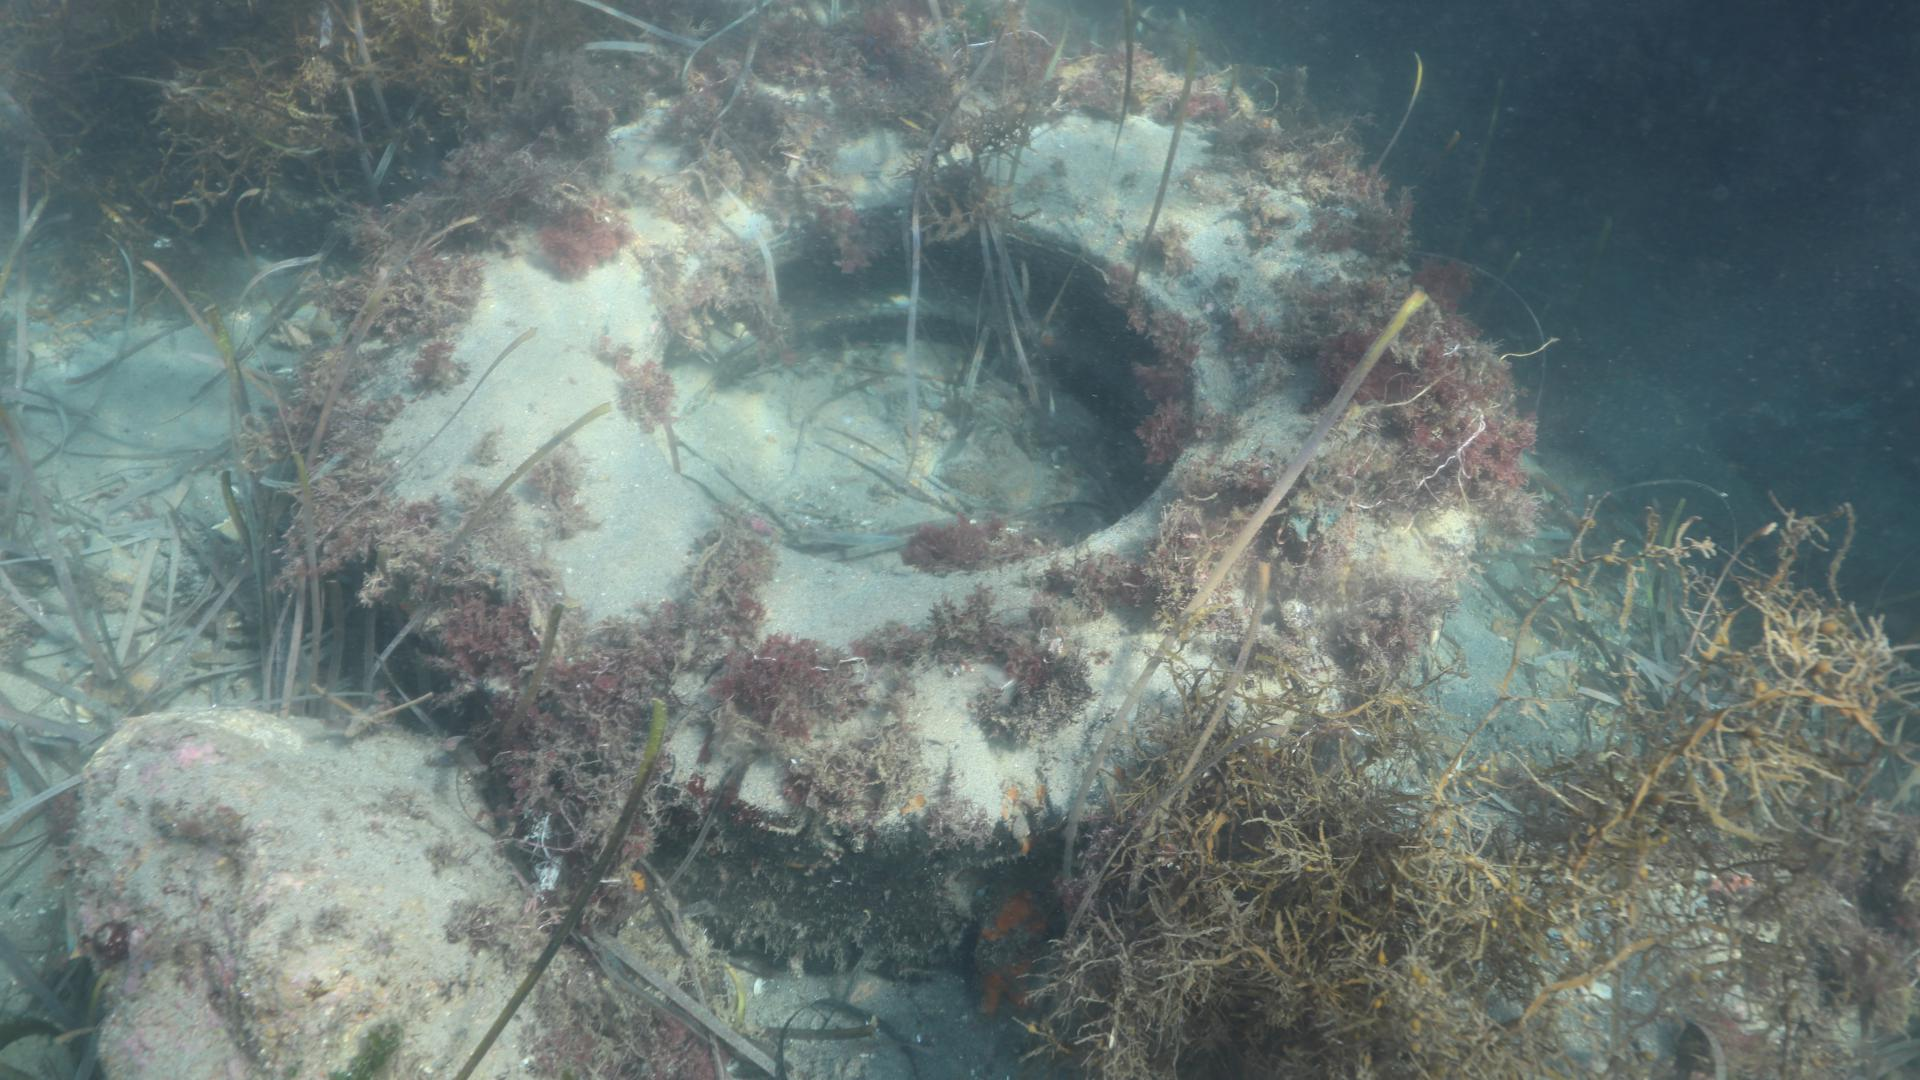tire: (381, 96, 1473, 957)
